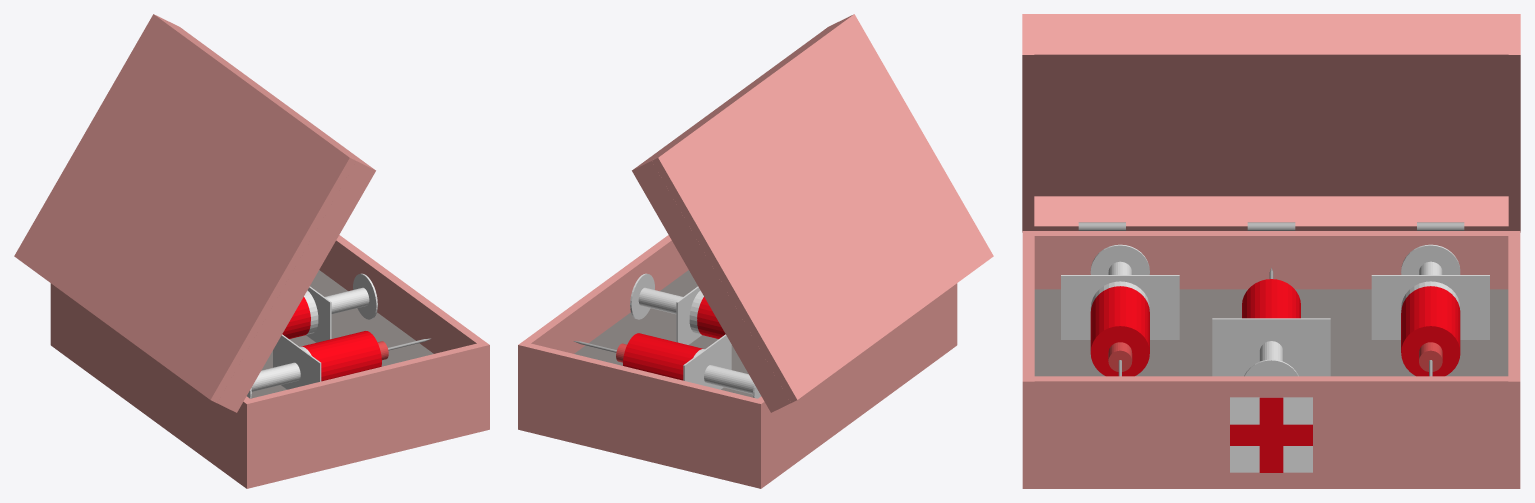
Rendered from First_aid_kit_red.fbx.
3 renders of one model, left to right at view 1: azimuth 30°, elevation 25°; view 2: azimuth 150°, elevation 25°; view 3: azimuth 270°, elevation 25°, orthographic. The views are drawn at different scales.
Parts seen in each view (by area): view 1: Cube.008, Cube.002, Cube, Cube.010, Cube.001, Plane, Cylinder.008, Cube.006, Cube.009, Cylinder.007, Cube.005, Cylinder.004 (+2 smaller); view 2: Cube.008, Cube.003, Cube, Cube.011, Cube.001, Plane, Cylinder.014, Cube.007, Cube.009, Cylinder.013, Cube.005, Cylinder.004 (+2 smaller); view 3: Cube.008, Cube.001, Cube, Cube.009, Plane, Box_lid, Cube.005, Cube.007, Cube.006, Cylinder.014, Cylinder.008, Cube.002 (+12 smaller).
Part boxes in pixels (x1,y1,x2,y2): Cube.008: (14,14,355,402); Cube.002: (242,341,489,488); Cube: (55,287,249,485); Cube.010: (217,158,375,412); Cube.001: (319,235,484,353); Plane: (251,270,433,398); Cylinder.008: (301,331,381,381); Cube.006: (273,334,321,389); Cube.009: (166,21,370,166); Cylinder.007: (251,362,300,391); Cube.005: (306,286,331,342); Cylinder.004: (325,287,369,314); Cube.008: (652,14,993,402); Cube.003: (518,341,765,488); Cube: (758,287,952,485); Cube.011: (632,158,790,412); Cube.001: (523,235,688,353); Plane: (574,270,752,397); Cylinder.014: (623,333,702,380); Cube.007: (683,334,731,389); Cube.009: (637,21,841,166); Cylinder.013: (704,365,754,394); Cube.005: (676,286,701,344); Cylinder.004: (638,287,682,314); Cube.008: (1022,14,1520,196); Cube.001: (1034,376,1508,488); Cube: (1034,231,1508,289); Cube.009: (1034,24,1508,60); Plane: (1034,289,1508,376); Box_lid: (1034,196,1508,230); Cube.005: (1212,318,1330,376); Cube.007: (1371,275,1489,339); Cube.006: (1061,275,1179,339); Cylinder.014: (1401,286,1460,376); Cylinder.008: (1090,286,1149,376); Cube.002: (1022,231,1034,488).
Bounding box in the file's own units: 34.6 × 36.14 × 42.01.
